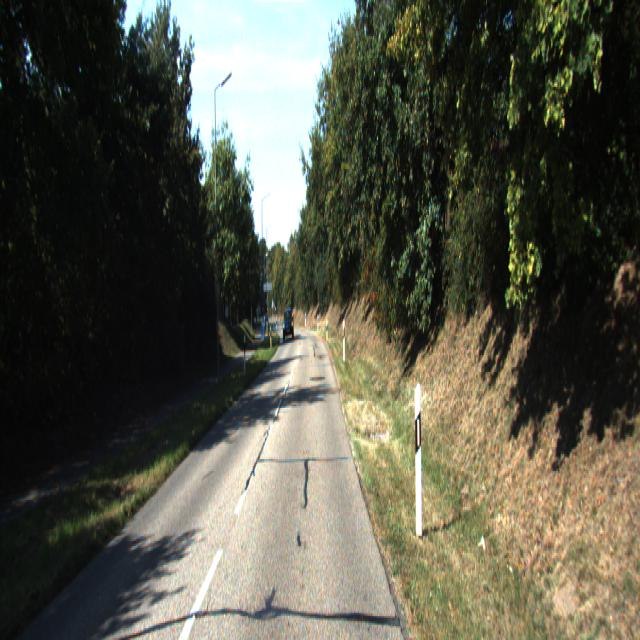Car: (282, 305, 294, 345)
